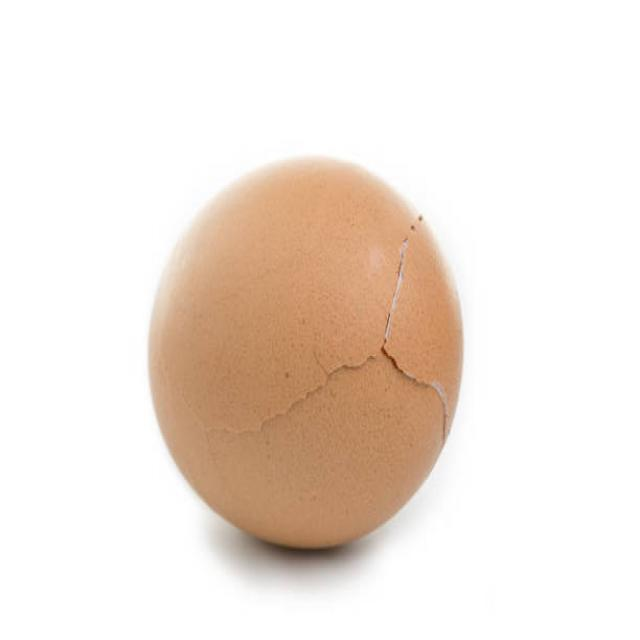biodegradable: (149, 157, 465, 551)
